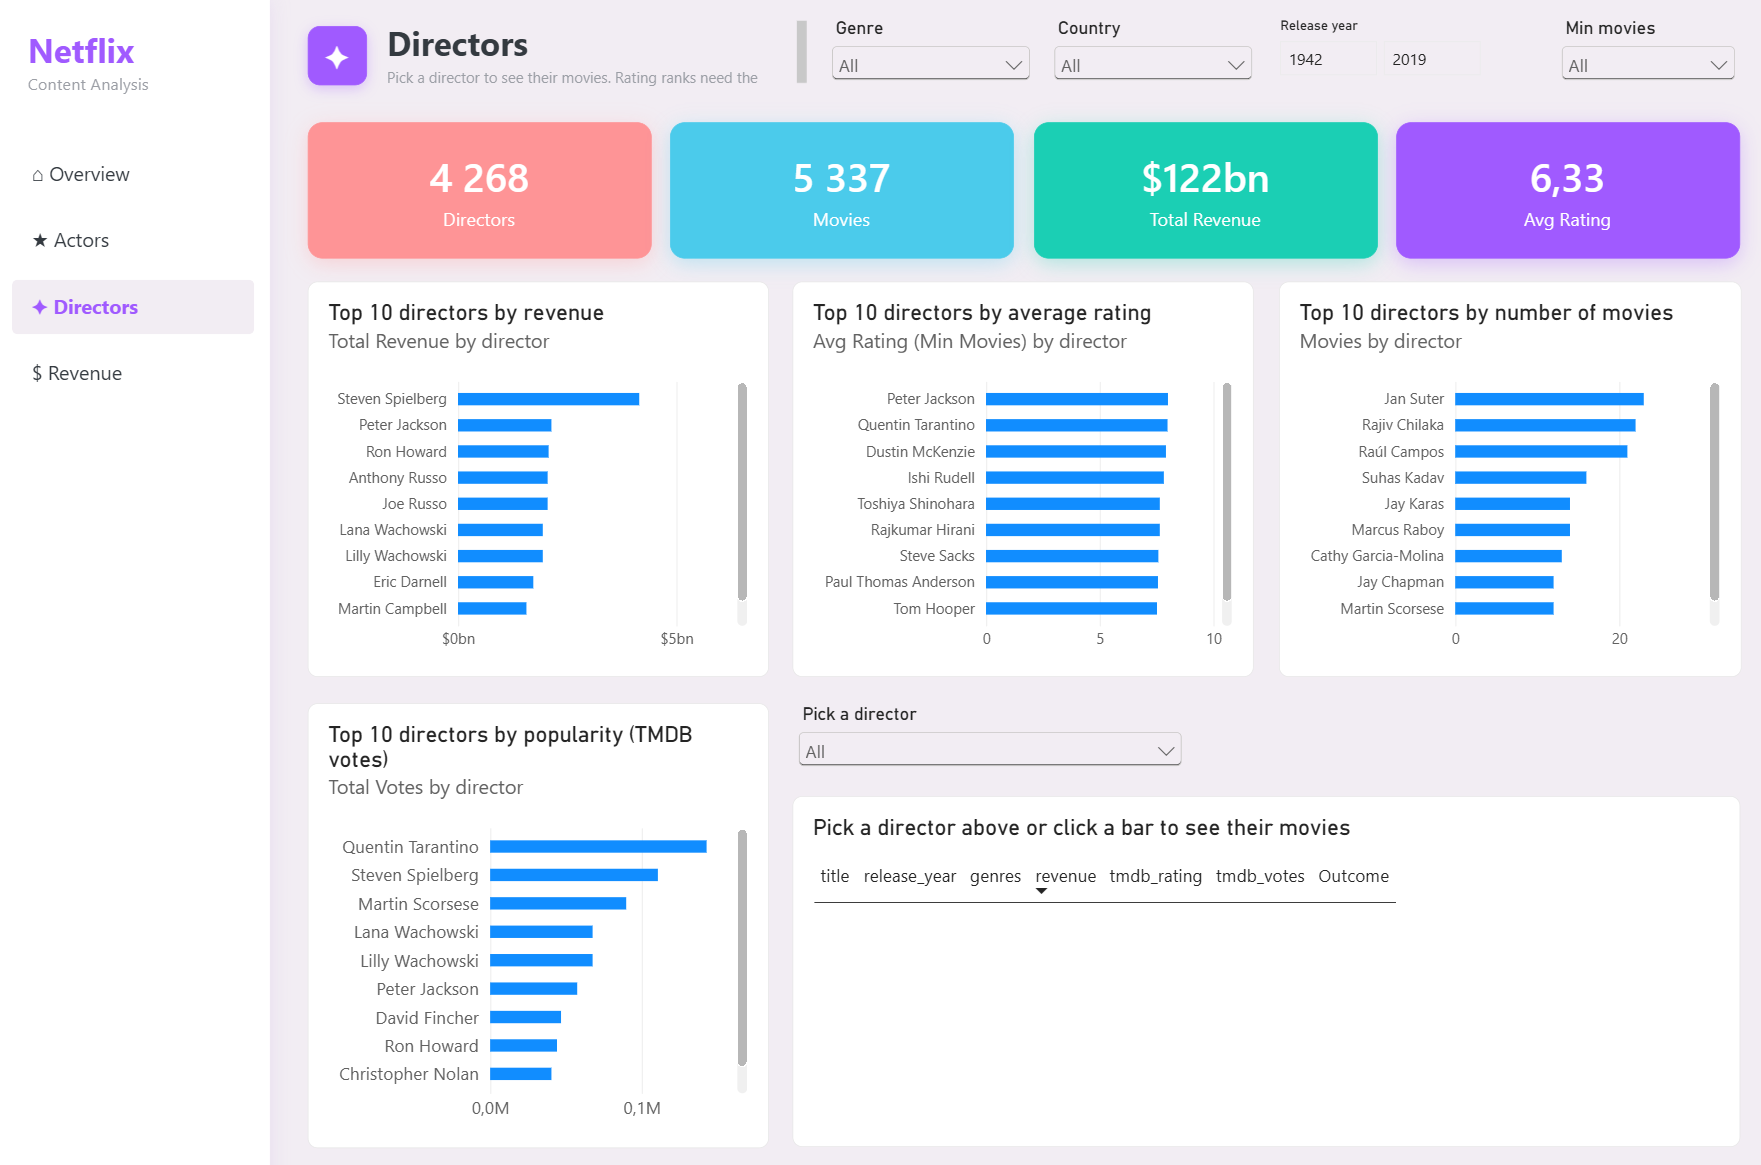

The dashboard page shown, as its layout file describes it:
{"tool":"powerbi","page":{"name":"Directors","canvas":[1440,1280],"ordinal":2},"visuals":[{"type":"textbox","box":[0,0,220,1280],"z":1000},{"type":"textbox","box":[24,24,180,64],"z":2000},{"type":"actionButton","box":[12,120,196,44],"z":3000},{"type":"actionButton","box":[12,174,196,44],"z":4000},{"type":"actionButton","box":[12,228,196,44],"z":5000},{"type":"actionButton","box":[12,282,196,44],"z":6000},{"type":"textbox","box":[24,1210,180,50],"z":7000},{"type":"slicer","fields":{"Values":["movie_genres.genre"]},"box":[670,16,170,64],"z":8000},{"type":"slicer","fields":{"Values":["movie_countries.country"]},"box":[850,16,170,64],"z":9000},{"type":"slicer","fields":{"Values":["movies.release_year"]},"box":[1030,16,220,64],"z":10000},{"type":"slicer","fields":{"Values":["Min Movies.Value"]},"box":[1260,16,150,64],"z":11000},{"type":"textbox","box":[250,22,48,48],"z":12000},{"type":"textbox","box":[314,18,340,60],"z":13000},{"type":"card","fields":{"Values":["_Measures.Directors"]},"box":[250,100,278,110],"z":14000},{"type":"card","fields":{"Values":["_Measures.Movies"]},"box":[544,100,278,110],"z":15000},{"type":"card","fields":{"Values":["_Measures.Total Revenue"]},"box":[838,100,278,110],"z":16000},{"type":"card","fields":{"Values":["_Measures.Avg Rating"]},"box":[1132,100,278,110],"z":17000},{"type":"clusteredBarChart","title":"Top 10 directors by revenue","fields":{"Category":["movie_directors.director"],"Y":["_Measures.Total Revenue"]},"box":[250,230,373,320],"z":18000},{"type":"clusteredBarChart","title":"Top 10 directors by average rating","fields":{"Category":["movie_directors.director"],"Y":["_Measures.Avg Rating (Min Movies)"]},"box":[643,230,373,320],"z":19000},{"type":"clusteredBarChart","title":"Top 10 directors by number of movies","fields":{"Category":["movie_directors.director"],"Y":["_Measures.Movies"]},"box":[1036,230,374,320],"z":20000},{"type":"clusteredBarChart","title":"Top 10 directors by popularity (TMDB votes)","fields":{"Category":["movie_directors.director"],"Y":["_Measures.Total Votes"]},"box":[250,570,373,360],"z":21000},{"type":"slicer","fields":{"Values":["movie_directors.director"]},"box":[643,570,320,64],"z":22000},{"type":"tableEx","fields":{"Values":["movies.title","movies.release_year","movies.genres","movies.revenue","movies.tmdb_rating","movies.tmdb_votes","movies.Outcome"]},"box":[643,646,767,284],"z":23000},{"type":"tableEx","title":"Best director per release year","fields":{"Values":["movies.release_year","_Measures.Top Director by Revenue","_Measures.Top Director Revenue","_Measures.Top Director by Votes"]},"box":[250,950,1160,310],"z":24000}]}

Visuals, with their boxes on the page's 1440x1280 design canvas (x1, y1, x2, y2). These are canvas units, not pixel positions in the 1761x1165 screenshot, which may show the page scaled, cropped or inside an application window:
textbox: (x1=0, y1=0, x2=220, y2=1280)
textbox: (x1=24, y1=24, x2=204, y2=88)
actionButton: (x1=12, y1=120, x2=208, y2=164)
actionButton: (x1=12, y1=174, x2=208, y2=218)
actionButton: (x1=12, y1=228, x2=208, y2=272)
actionButton: (x1=12, y1=282, x2=208, y2=326)
textbox: (x1=24, y1=1210, x2=204, y2=1260)
slicer - movie_genres.genre: (x1=670, y1=16, x2=840, y2=80)
slicer - movie_countries.country: (x1=850, y1=16, x2=1020, y2=80)
slicer - movies.release_year: (x1=1030, y1=16, x2=1250, y2=80)
slicer - Min Movies.Value: (x1=1260, y1=16, x2=1410, y2=80)
textbox: (x1=250, y1=22, x2=298, y2=70)
textbox: (x1=314, y1=18, x2=654, y2=78)
card - _Measures.Directors: (x1=250, y1=100, x2=528, y2=210)
card - _Measures.Movies: (x1=544, y1=100, x2=822, y2=210)
card - _Measures.Total Revenue: (x1=838, y1=100, x2=1116, y2=210)
card - _Measures.Avg Rating: (x1=1132, y1=100, x2=1410, y2=210)
"Top 10 directors by revenue" clusteredBarChart: (x1=250, y1=230, x2=623, y2=550)
"Top 10 directors by average rating" clusteredBarChart: (x1=643, y1=230, x2=1016, y2=550)
"Top 10 directors by number of movies" clusteredBarChart: (x1=1036, y1=230, x2=1410, y2=550)
"Top 10 directors by popularity (TMDB votes)" clusteredBarChart: (x1=250, y1=570, x2=623, y2=930)
slicer - movie_directors.director: (x1=643, y1=570, x2=963, y2=634)
tableEx - movies.title x movies.release_year: (x1=643, y1=646, x2=1410, y2=930)
"Best director per release year" tableEx: (x1=250, y1=950, x2=1410, y2=1260)
